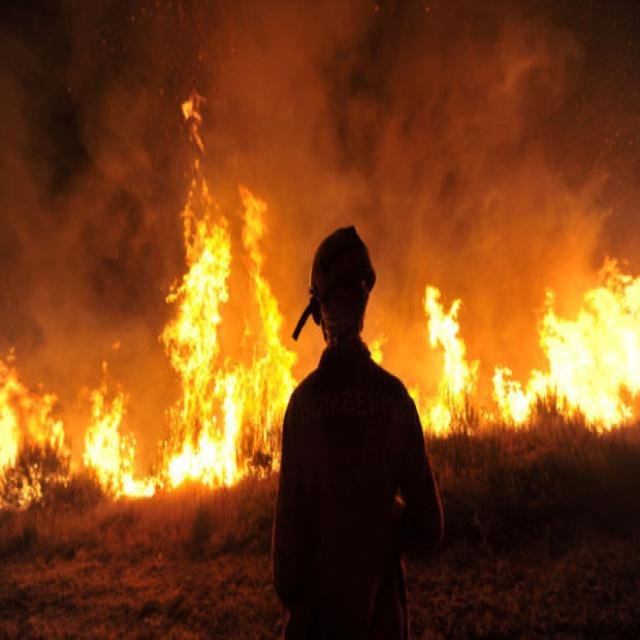Fire: (0, 184, 640, 500)
Smoke: (1, 0, 640, 404)
